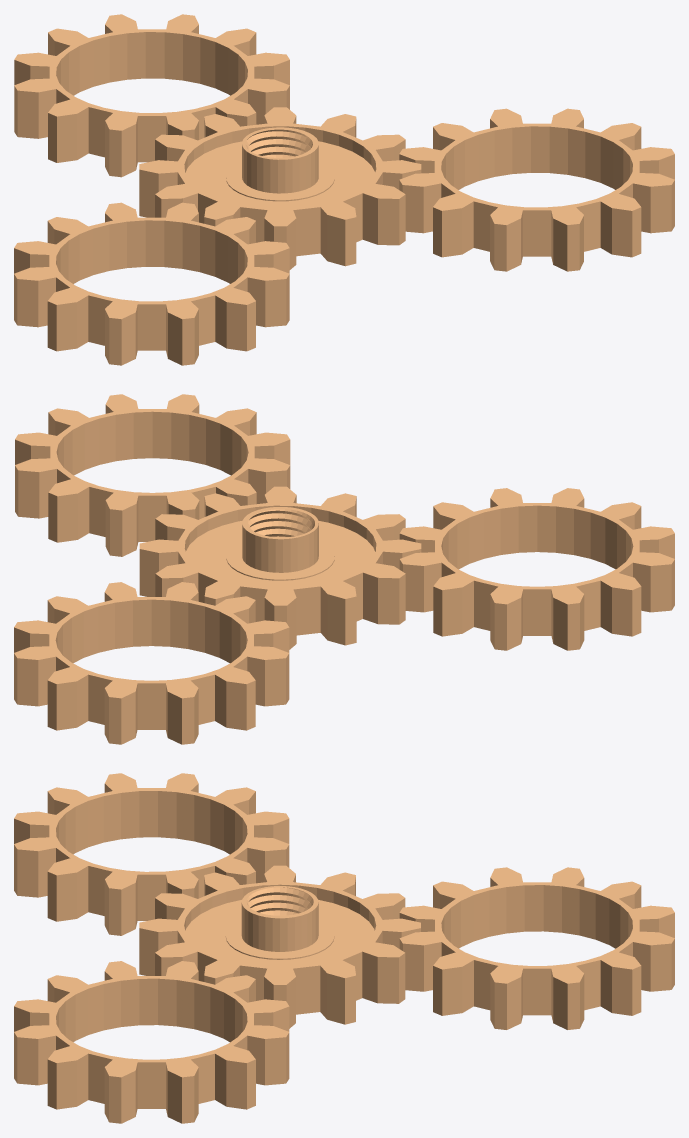
File: gears.dae
3 views of the same model, one above another, from view 1: azimuth 30°, elevation 25°; view 2: azimuth 150°, elevation 25°; view 3: azimuth 270°, elevation 25° (orthographic).
Visible parts, largest first — view 1: Outer Sprocket 1, Outer Sprocket 2, Core Sprocket, Outer Sprocket 3; view 2: Outer Sprocket 3, Outer Sprocket 1, Core Sprocket, Outer Sprocket 2; view 3: Outer Sprocket 2, Outer Sprocket 3, Core Sprocket, Outer Sprocket 1.
Part boxes in pixels (x1,y1,x2,y2): Outer Sprocket 1: [14, 202, 289, 365]; Outer Sprocket 2: [399, 108, 674, 271]; Core Sprocket: [139, 107, 421, 269]; Outer Sprocket 3: [14, 14, 289, 177]; Outer Sprocket 3: [14, 582, 289, 744]; Outer Sprocket 1: [399, 488, 674, 650]; Core Sprocket: [139, 486, 421, 649]; Outer Sprocket 2: [15, 394, 290, 556]; Outer Sprocket 2: [14, 961, 289, 1123]; Outer Sprocket 3: [399, 867, 674, 1029]; Core Sprocket: [139, 865, 420, 1028]; Outer Sprocket 1: [14, 773, 289, 935].
Bounding box in the file's own units: 0.5621 × 0.5161 × 0.08.
